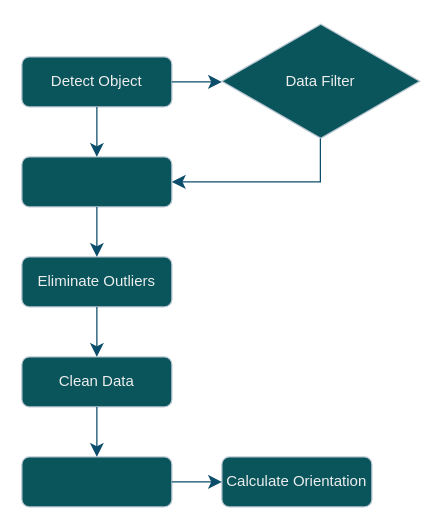
Image size: 443x529. Some labels were removed from this diagram. Each missing label, with the centre of its shape:
"BB Transformation" belongs at point 96,181.
"Merge" belongs at point 96,481.
